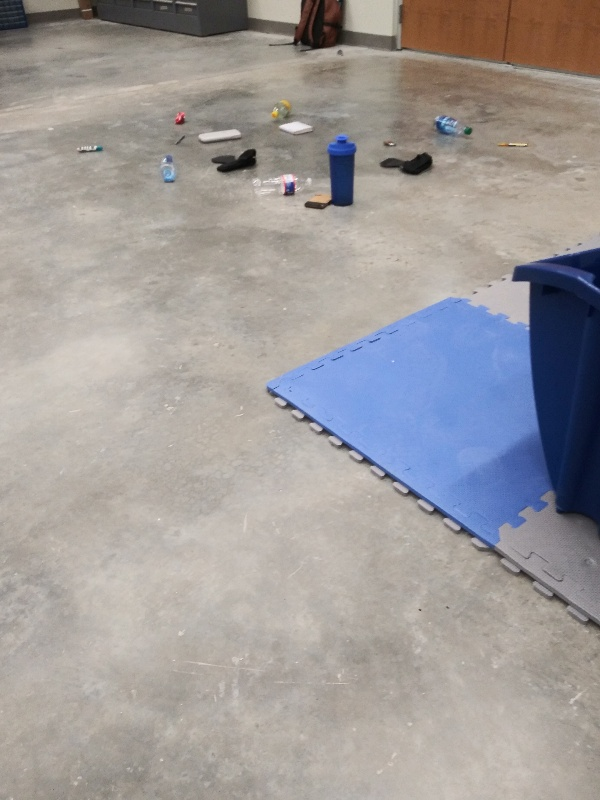bottle: (249, 170, 318, 201), (425, 111, 476, 142), (266, 97, 296, 123), (158, 152, 177, 182)
